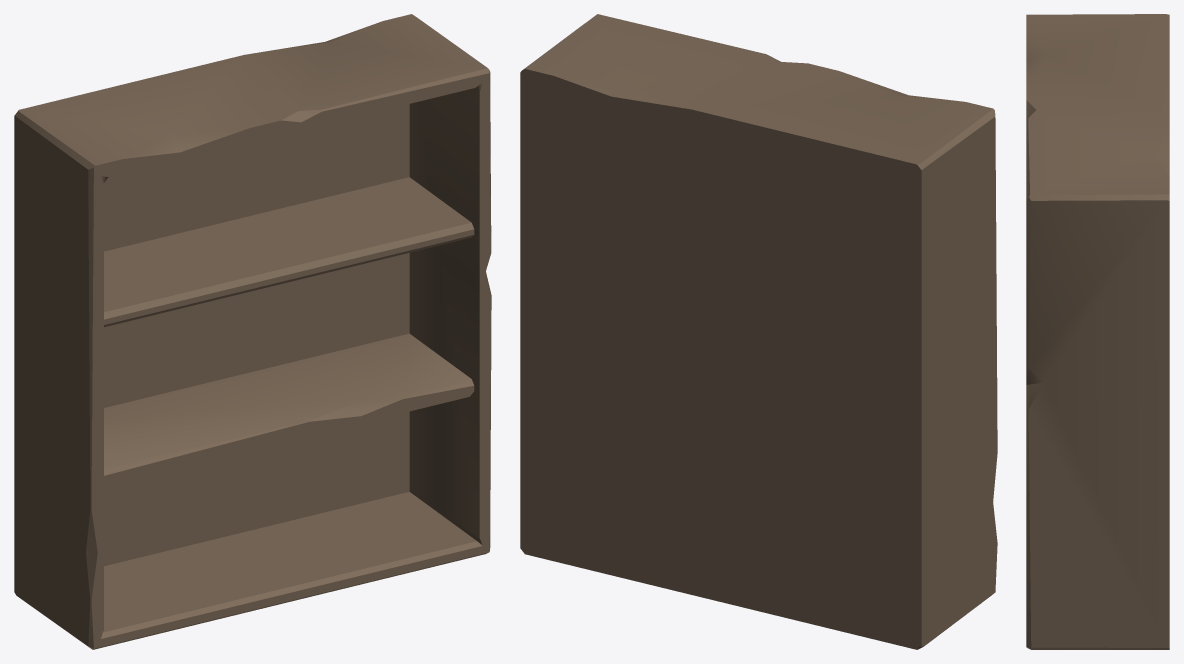
The model's file is Bookshelf.FBX.
The picture shows the model from 3 angles, left to right: view 1: azimuth 30°, elevation 25°; view 2: azimuth 150°, elevation 25°; view 3: azimuth 270°, elevation 25°; orthographic projection. The views are drawn at different scales.
Parts seen in each view (by area): view 1: bookshelf; view 2: bookshelf; view 3: bookshelf.
Boxes of the visible parts, x1,y1,x2,y2 form: bookshelf: (14,14,491,649); bookshelf: (520,14,997,649); bookshelf: (1026,14,1169,649).
Size of the model in its own units: 88.78 by 103 by 29.25.
